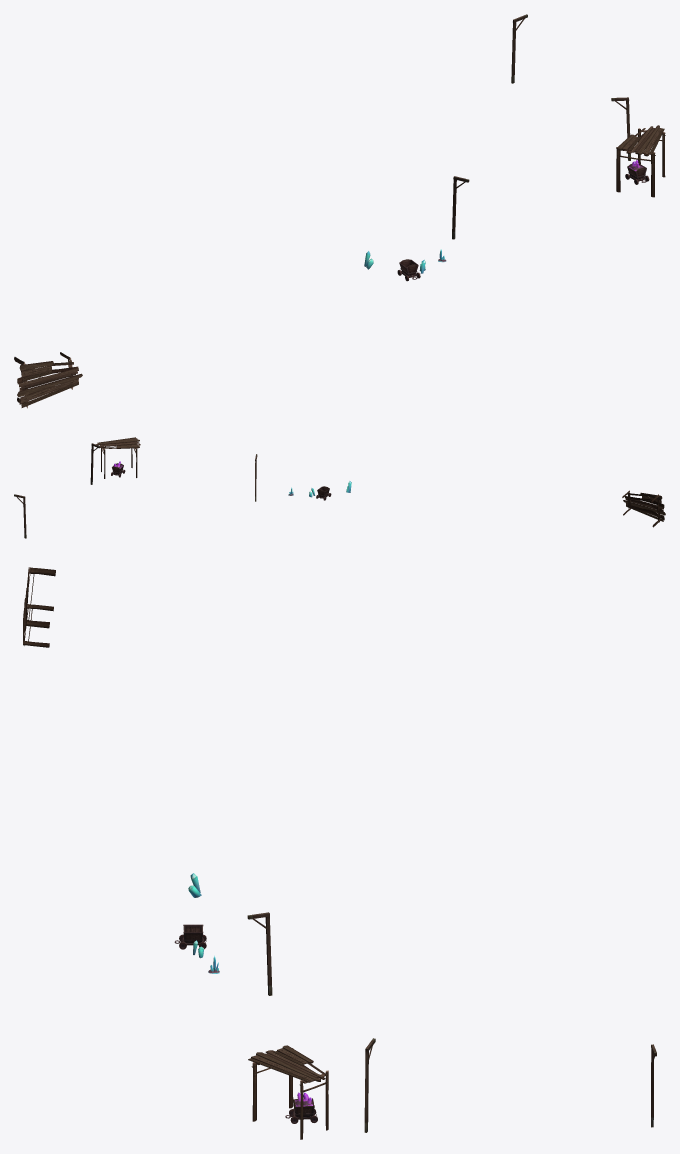
Rendered from area_06_shuijing.FBX.
3 views of the same model, one above another, from view 1: azimuth 30°, elevation 25°; view 2: azimuth 150°, elevation 25°; view 3: azimuth 270°, elevation 25° (orthographic). The views are drawn at different scales.
Parts seen in each view (by area): view 1: area_06_shuijing; view 2: area_06_shuijing; view 3: area_06_shuijing.
Boxes of the visible parts, x1,y1,x2,y2 form: area_06_shuijing: [14, 14, 665, 408]; area_06_shuijing: [14, 437, 665, 538]; area_06_shuijing: [23, 567, 656, 1139].
Size of the model in its own units: 10449 by 950 by 5767.
